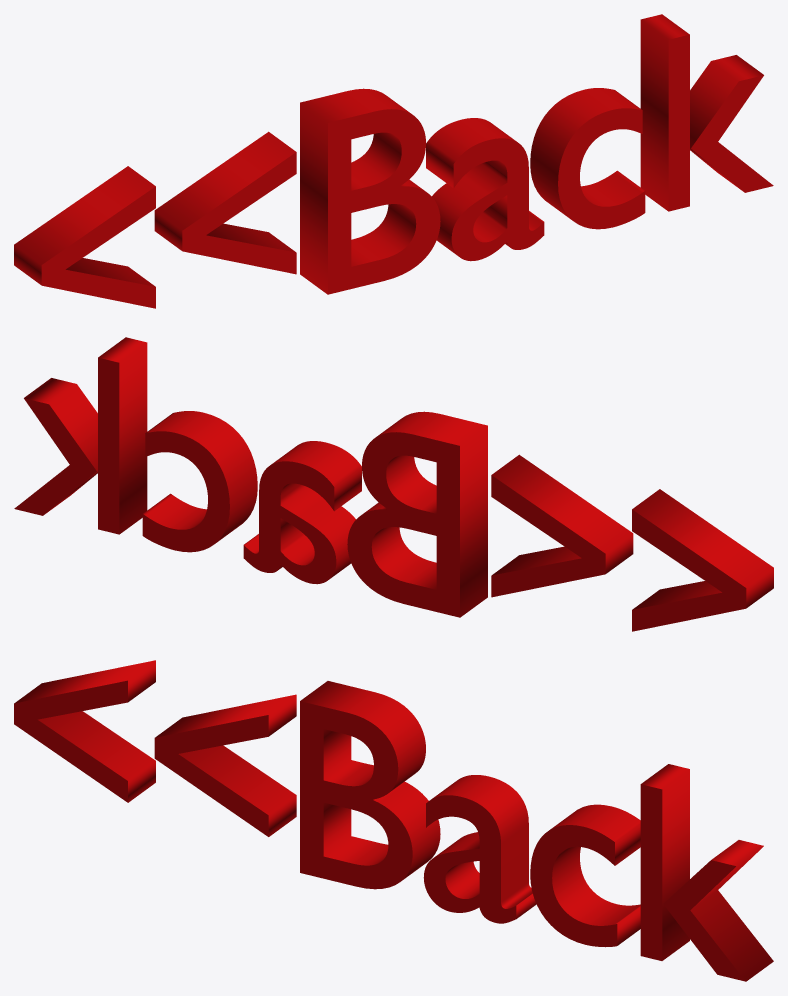
Rendered from Back.obj.
3 views of the same model, one above another, from view 1: azimuth 30°, elevation 25°; view 2: azimuth 150°, elevation 25°; view 3: azimuth 330°, elevation 25° (orthographic).
Visible parts, largest first — view 1: Text; view 2: Text; view 3: Text.
Boxes of the visible parts, x1,y1,x2,y2 form: Text: (14, 14, 773, 308); Text: (14, 337, 773, 631); Text: (14, 660, 773, 981).
Bounding box in the file's own units: 3.04 × 0.691 × 0.2.
